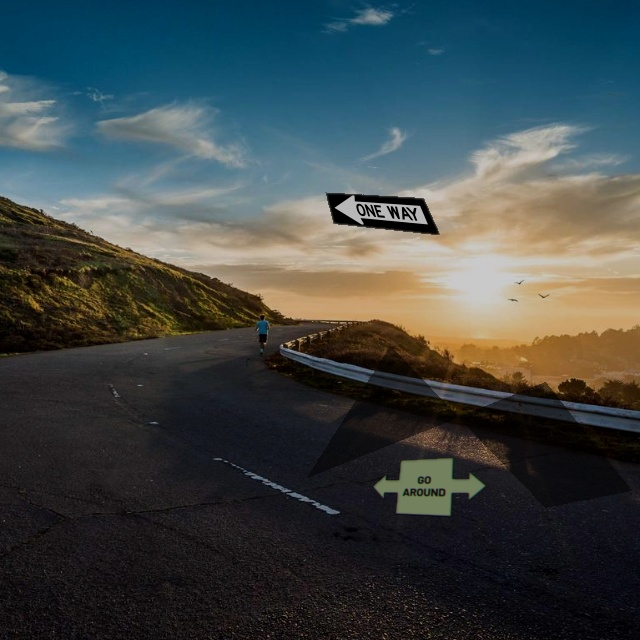GO_AROUND: (372, 457, 487, 517)
ONE_WAY_ left: (325, 192, 440, 235)
